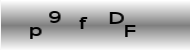9: (48, 11, 61, 24)
D: (109, 11, 123, 25)
F: (124, 25, 136, 38)
f: (78, 16, 86, 29)
p: (29, 25, 42, 40)
